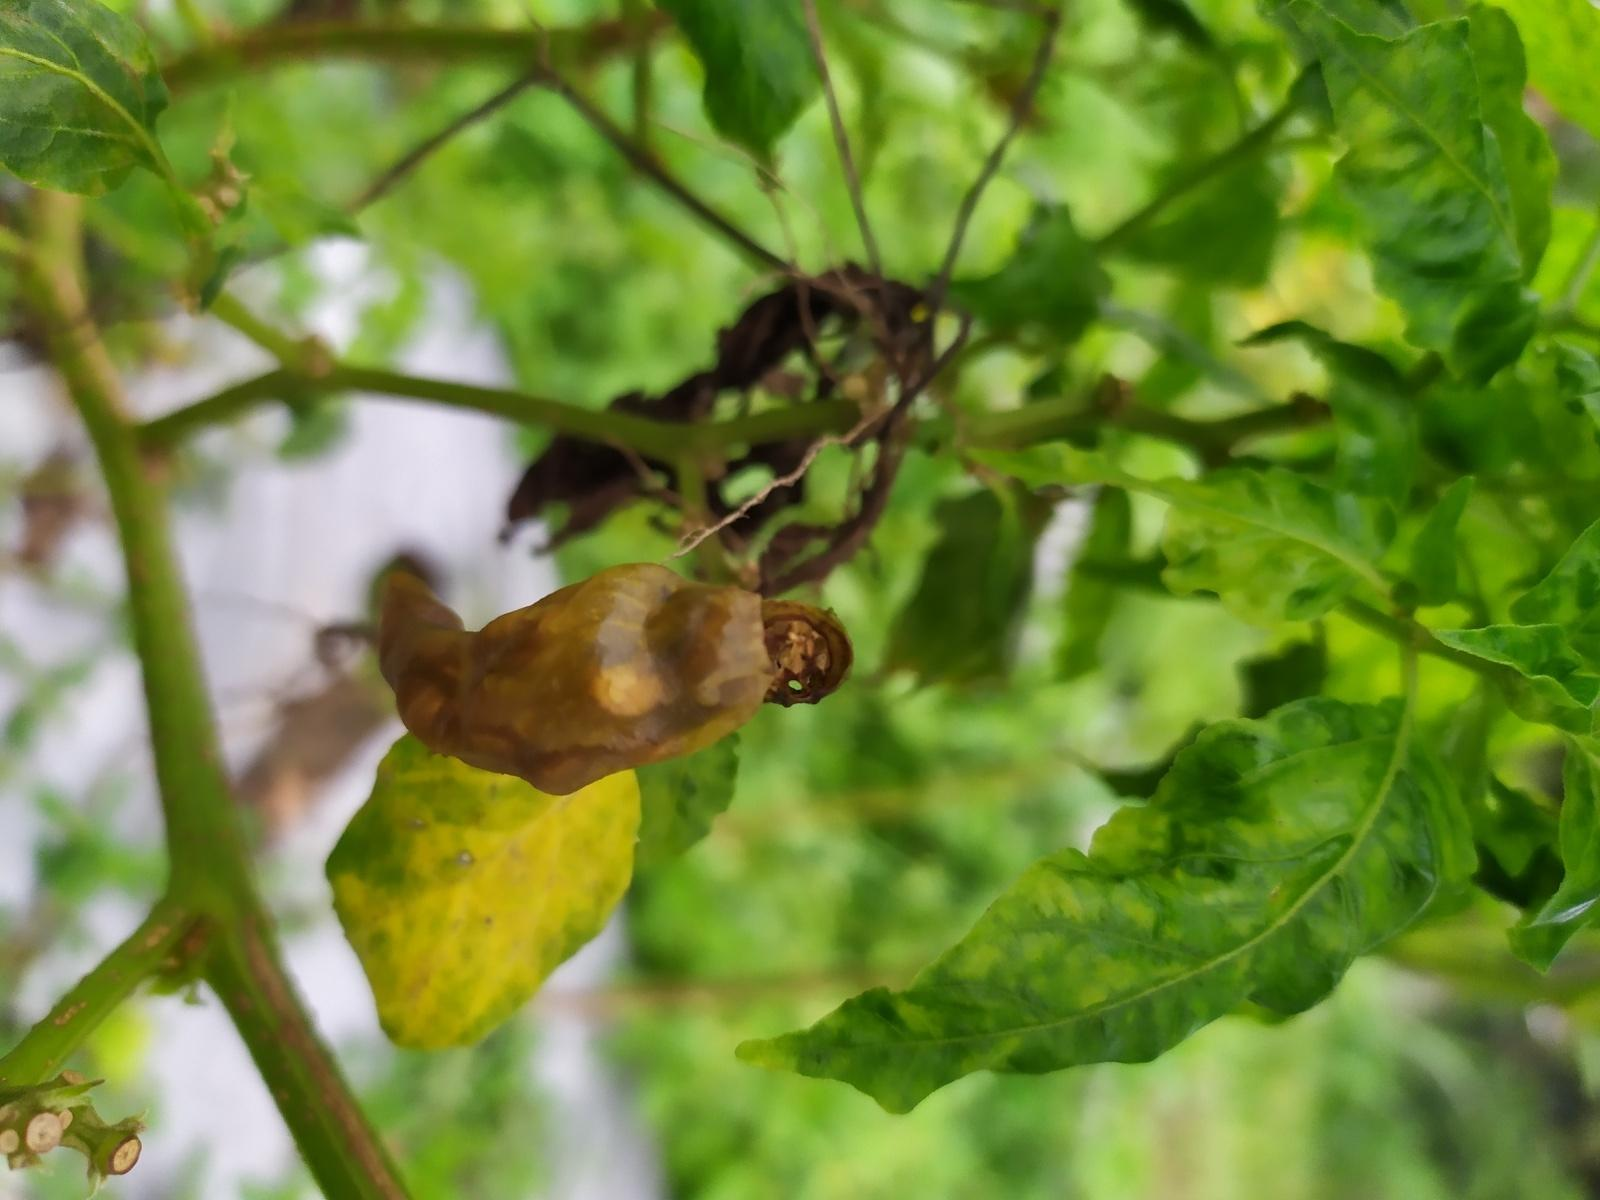lalat_buah: (370, 565, 854, 797)
